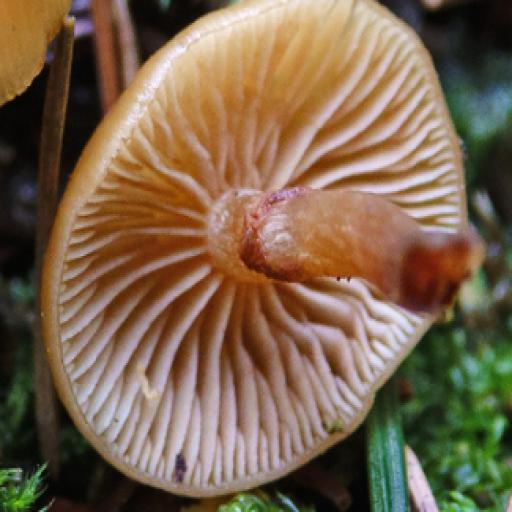mushroom: (36, 1, 477, 504)
